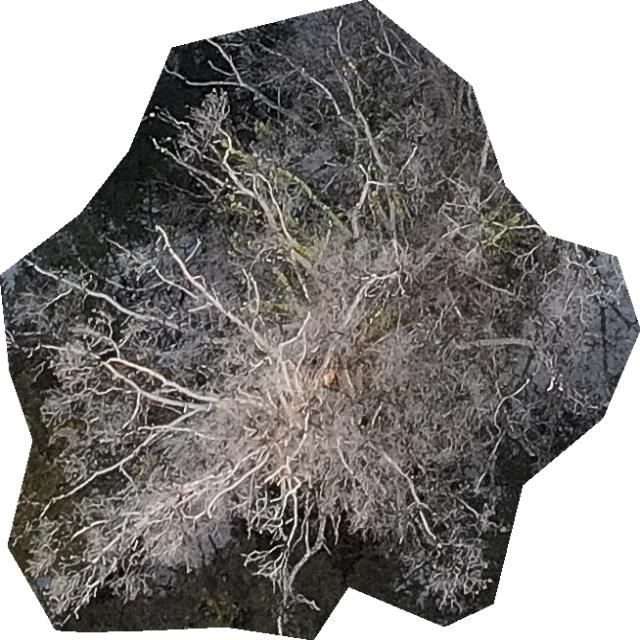trembling aspen: (0, 0, 639, 639)
